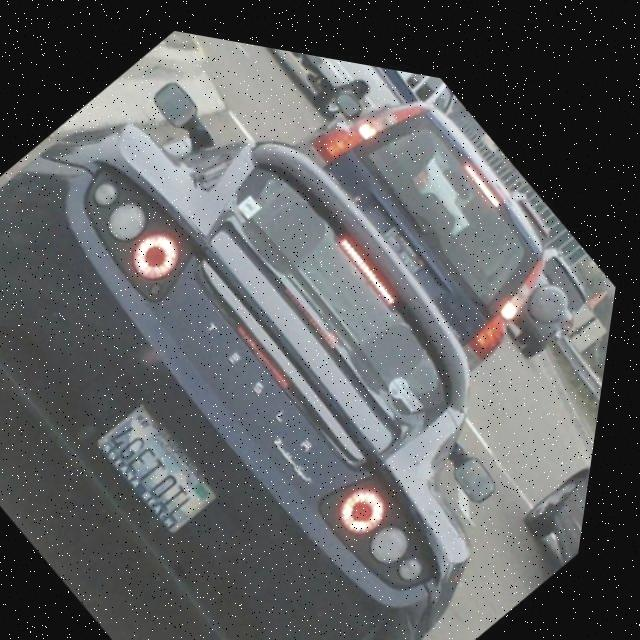license_plate: (98, 392, 235, 528)
